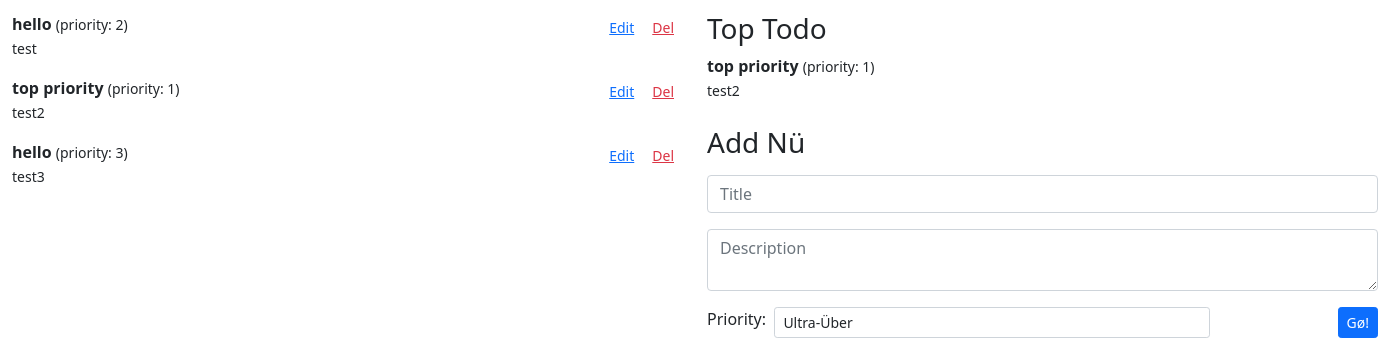
Test case: TodoApp › creates a new todo
The width and height of the screenshot is (1390, 355).
Type "This is a new todo" into the field named "title" at (1042, 194), box [707,175,1378,213]
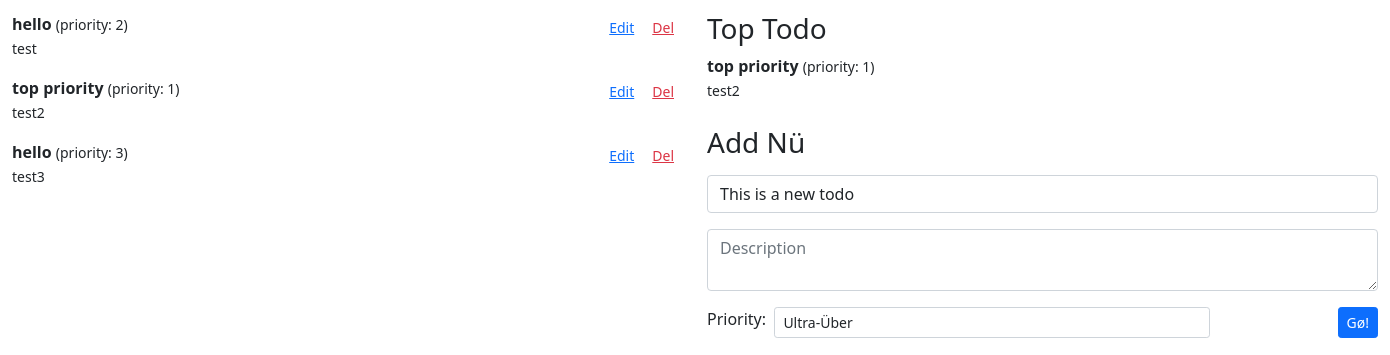
Type "adding" into the text box named "description" at (1042, 260), box [707,229,1378,291]
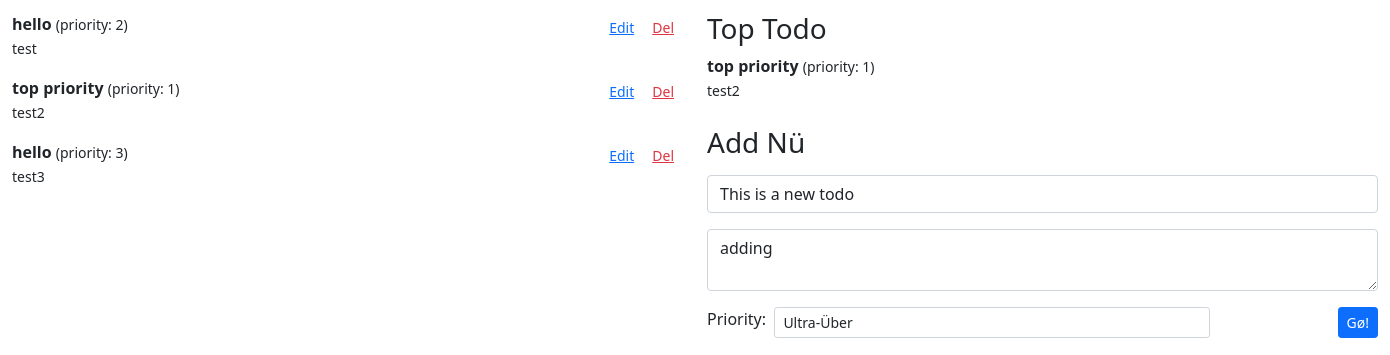
Select "Über" in the dropdown named "priority" at (992, 323), box [774,307,1210,338]
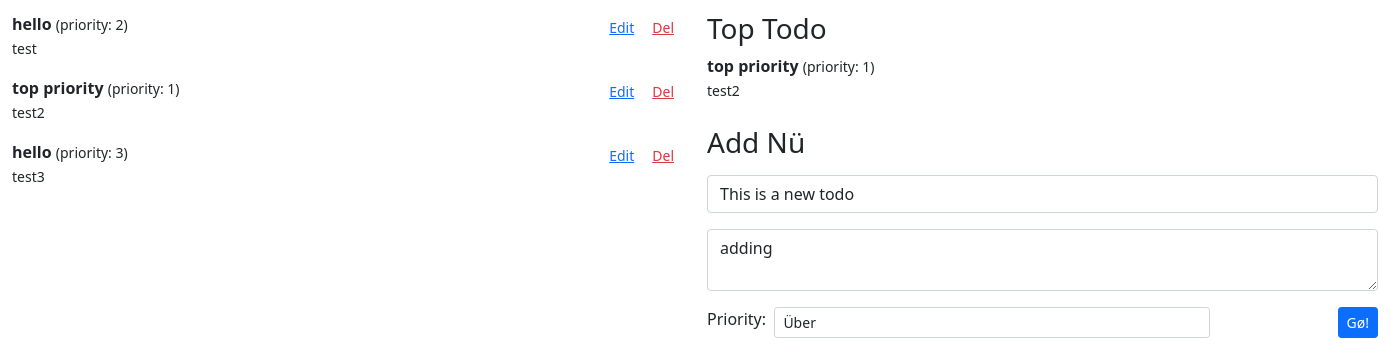
Click the button with class "NewTodoForm-addBtn" at (1358, 323), box [1338,307,1378,338]
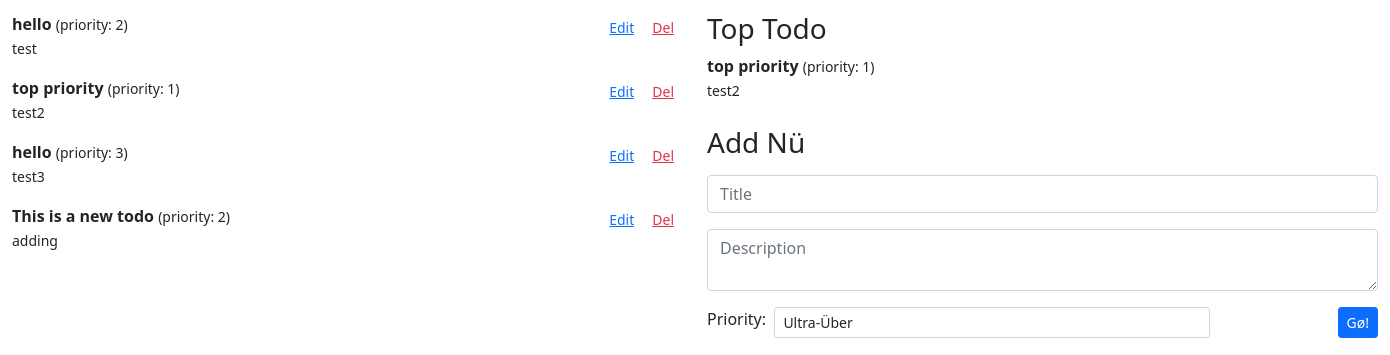
Now the element with class "col-md-6" shows "This is a new todo", box [12,205,154,227]
